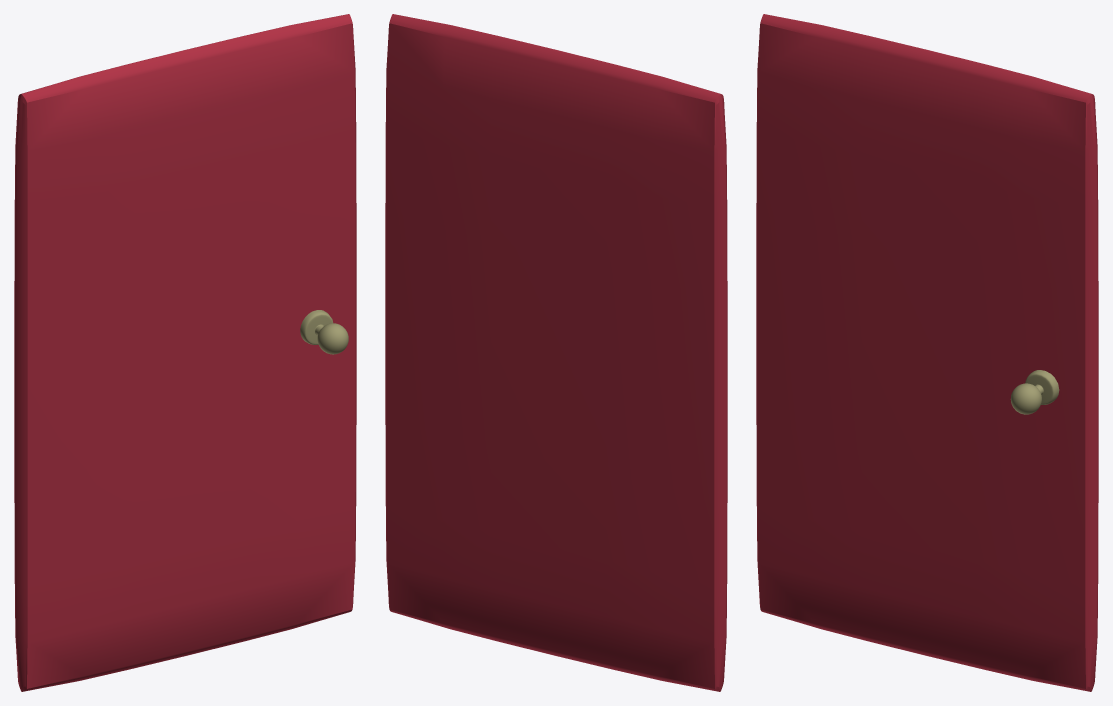
The model's file is puerta.fbx.
3 renders of one model, left to right at view 1: azimuth 30°, elevation 25°; view 2: azimuth 150°, elevation 25°; view 3: azimuth 330°, elevation 25°, orthographic.
Parts seen in each view (by area): view 1: puerta; view 2: puerta; view 3: puerta.
Part boxes in pixels (<box>): puerta: <box>14,14,356,691</box>; puerta: <box>385,14,727,691</box>; puerta: <box>756,14,1098,691</box>.
Bounding box in the file's own units: 82.15 × 140 × 16.75.
